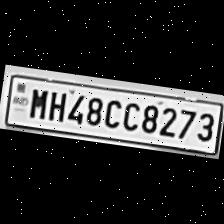2: (157, 104, 178, 138)
3: (193, 108, 217, 142)
4: (64, 90, 86, 124)
7: (174, 105, 196, 139)
8: (82, 92, 104, 126), (138, 100, 160, 134)
C: (120, 97, 142, 132), (101, 95, 123, 129)
H: (46, 88, 68, 122)
M: (26, 86, 49, 119)
